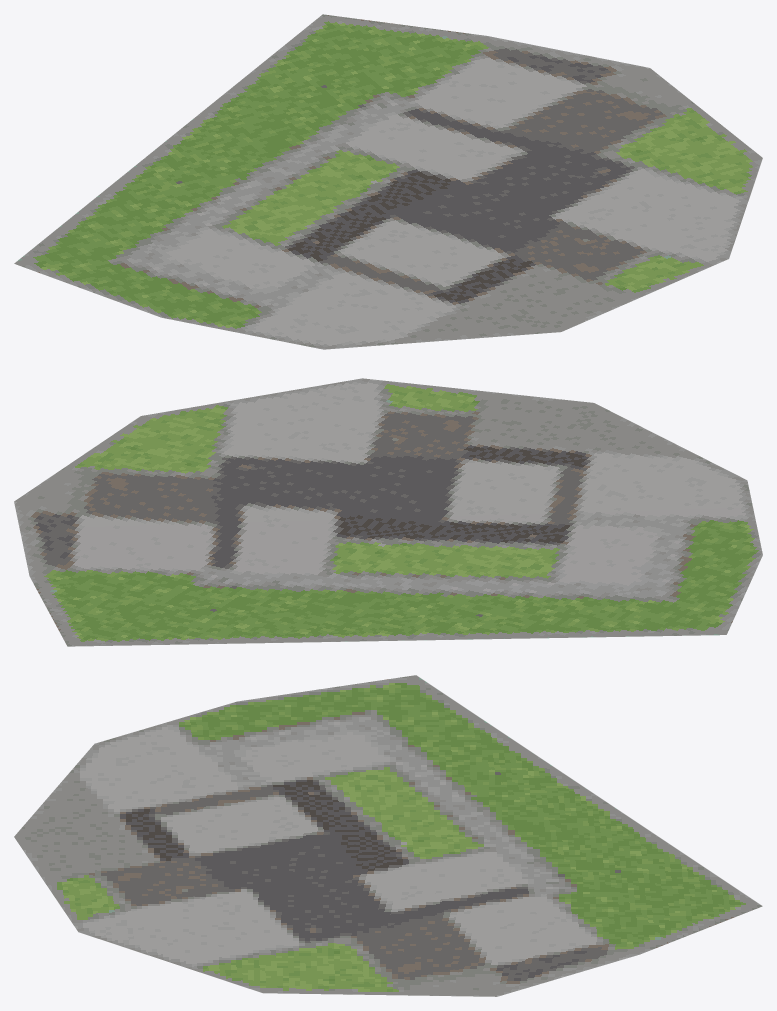
The model's file is kd_stage_1366d7_3_11_bounded.glb.
3 renders of one model, top to bottom at view 1: azimuth 30°, elevation 25°; view 2: azimuth 150°, elevation 25°; view 3: azimuth 270°, elevation 25°, orthographic. The views are drawn at different scales.
Visible parts, largest first — view 1: kd_stage_1366d7_3_11_bounded; view 2: kd_stage_1366d7_3_11_bounded; view 3: kd_stage_1366d7_3_11_bounded.
Boxes of the visible parts, x1=… form: kd_stage_1366d7_3_11_bounded: x1=14, y1=14, x2=762, y2=349; kd_stage_1366d7_3_11_bounded: x1=14, y1=378, x2=762, y2=646; kd_stage_1366d7_3_11_bounded: x1=14, y1=675, x2=762, y2=996.
Bounding box in the file's own units: 57.77 × 0.00994 × 56.86.
1 material, 1 textured.
